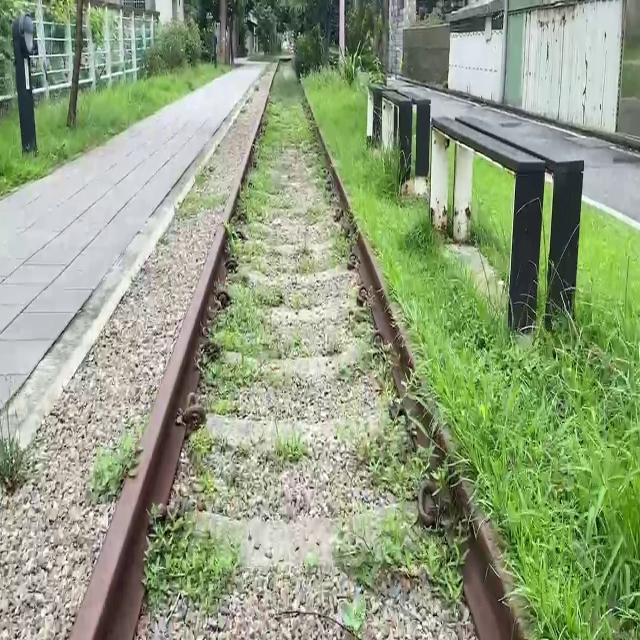rail: (48, 56, 578, 640)
